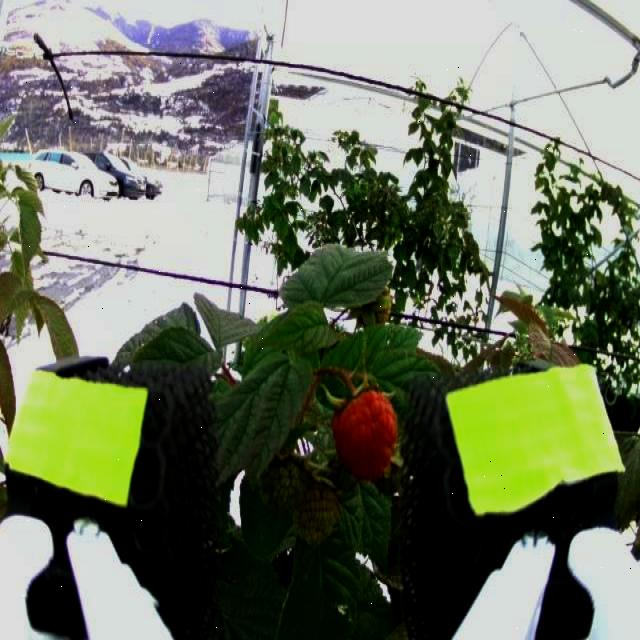Riped berries: (330, 386, 399, 482)
